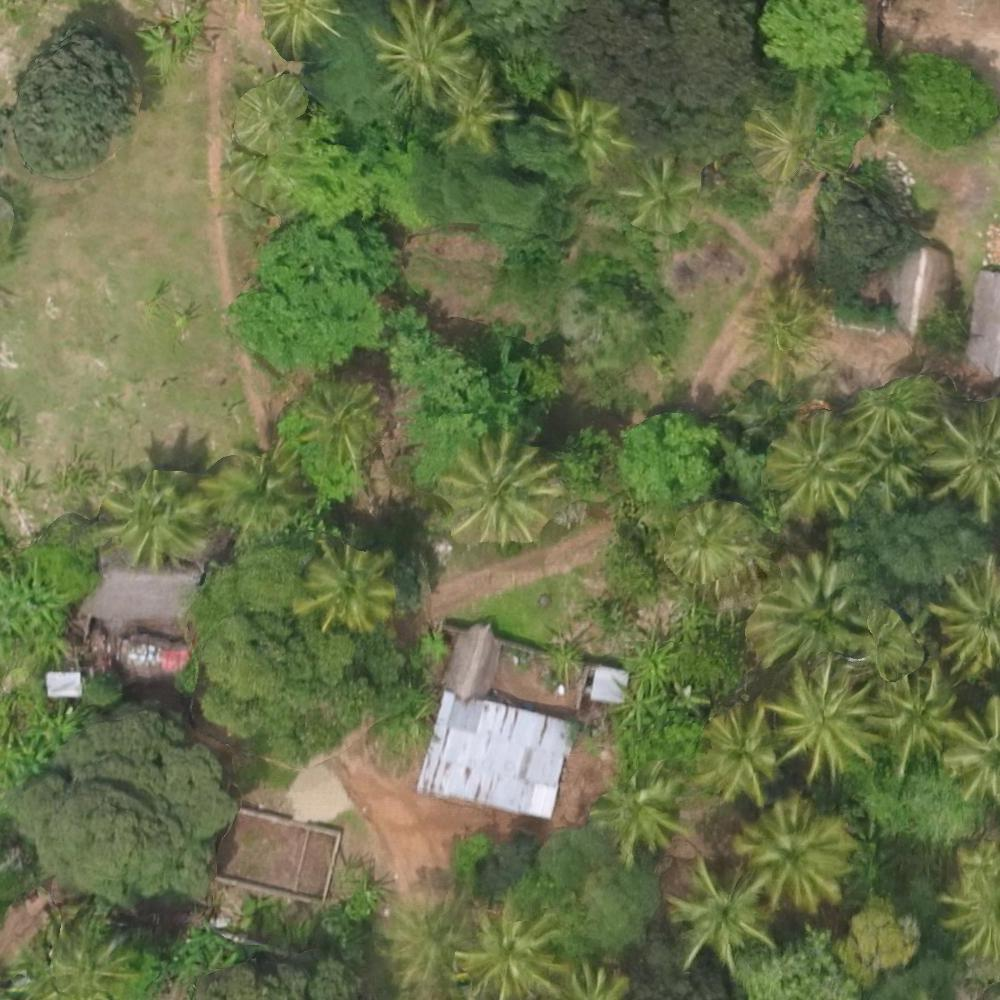Palm: (666, 859, 778, 971), (741, 795, 848, 909), (444, 436, 552, 543), (757, 557, 870, 659), (777, 663, 877, 774), (453, 904, 561, 995), (765, 417, 862, 514), (379, 1, 477, 97), (691, 704, 783, 800), (296, 541, 387, 636), (871, 673, 958, 771), (543, 84, 636, 174), (108, 476, 205, 562), (925, 564, 1000, 669), (388, 905, 472, 997), (596, 773, 689, 856), (213, 447, 307, 529), (929, 408, 1000, 514), (298, 374, 382, 463), (437, 65, 520, 148), (669, 505, 760, 579), (939, 696, 1000, 805), (741, 98, 829, 172), (620, 160, 700, 235), (747, 294, 824, 369), (254, 1, 341, 56)
